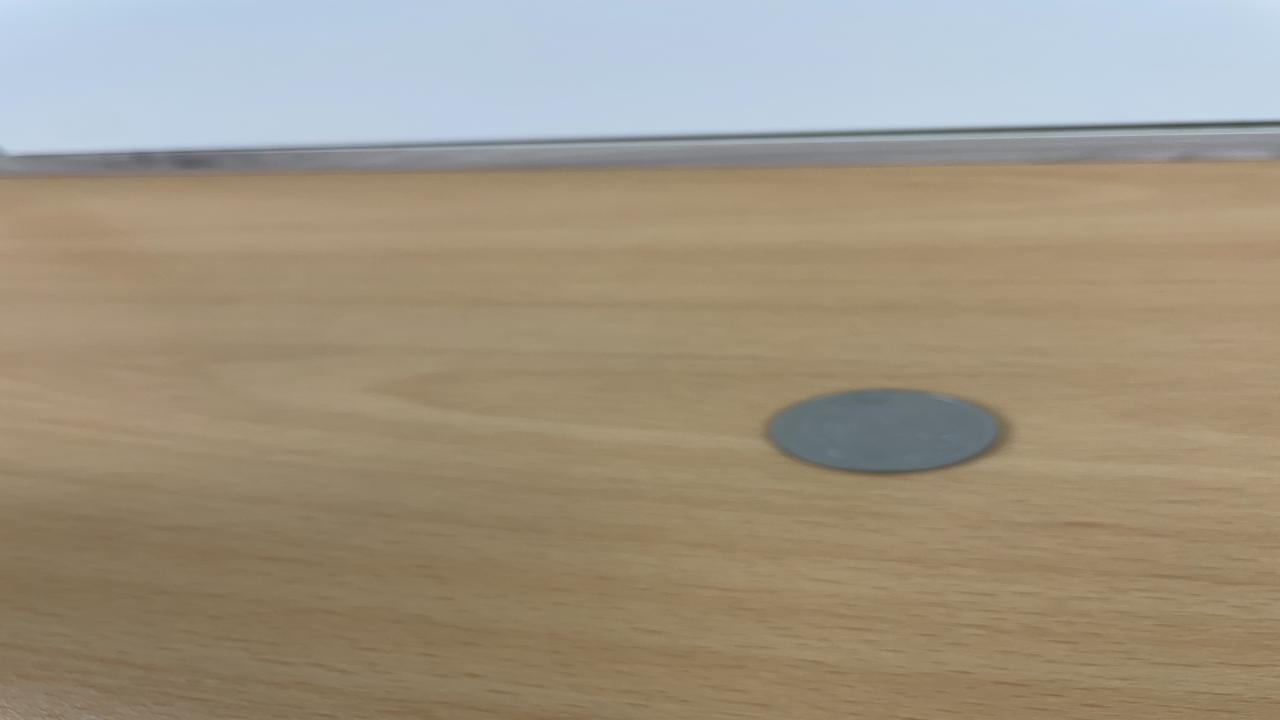coin: (762, 387, 1008, 475)
